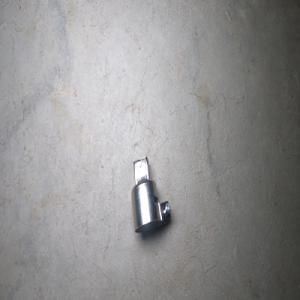MetalPart: (131, 155, 171, 233)
